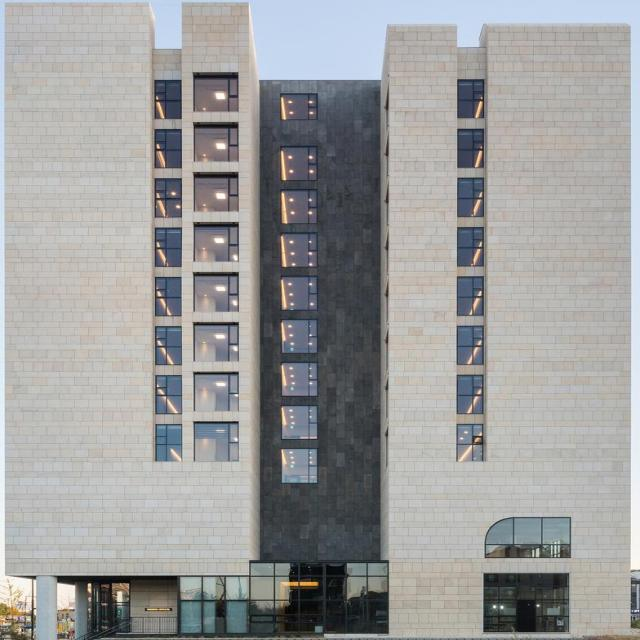door: (517, 599, 539, 634)
railing: (125, 618, 181, 634)
window: (251, 560, 389, 634), (483, 573, 569, 633), (179, 574, 252, 634), (487, 519, 574, 557), (94, 582, 130, 634), (195, 125, 239, 163), (195, 173, 239, 211), (194, 223, 238, 261), (194, 275, 239, 312), (194, 374, 239, 411), (194, 374, 239, 411), (193, 76, 239, 112), (194, 324, 238, 361), (192, 423, 236, 460), (282, 142, 318, 179), (282, 190, 318, 225), (281, 233, 317, 267), (283, 275, 319, 309), (282, 406, 317, 440), (282, 406, 317, 440), (282, 450, 317, 484), (456, 80, 487, 118), (284, 320, 318, 354), (284, 362, 319, 395), (155, 80, 183, 119), (457, 275, 485, 314), (456, 325, 484, 364), (457, 375, 485, 414), (457, 375, 485, 414), (157, 129, 184, 169), (157, 177, 184, 217), (154, 424, 181, 464), (456, 227, 484, 265), (456, 424, 483, 463), (156, 227, 182, 267), (156, 325, 182, 365), (458, 129, 485, 167), (458, 177, 485, 215), (157, 276, 183, 315), (157, 376, 183, 415), (157, 376, 183, 415), (280, 93, 317, 120)
